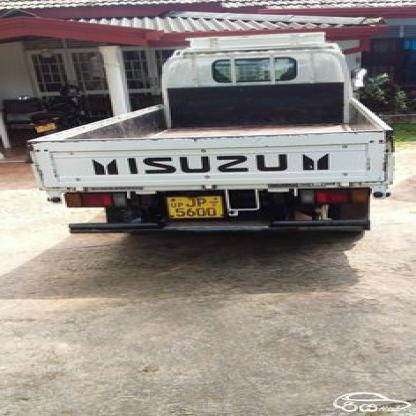Lorry back: (23, 31, 398, 246)
number plate: (160, 194, 236, 221)
